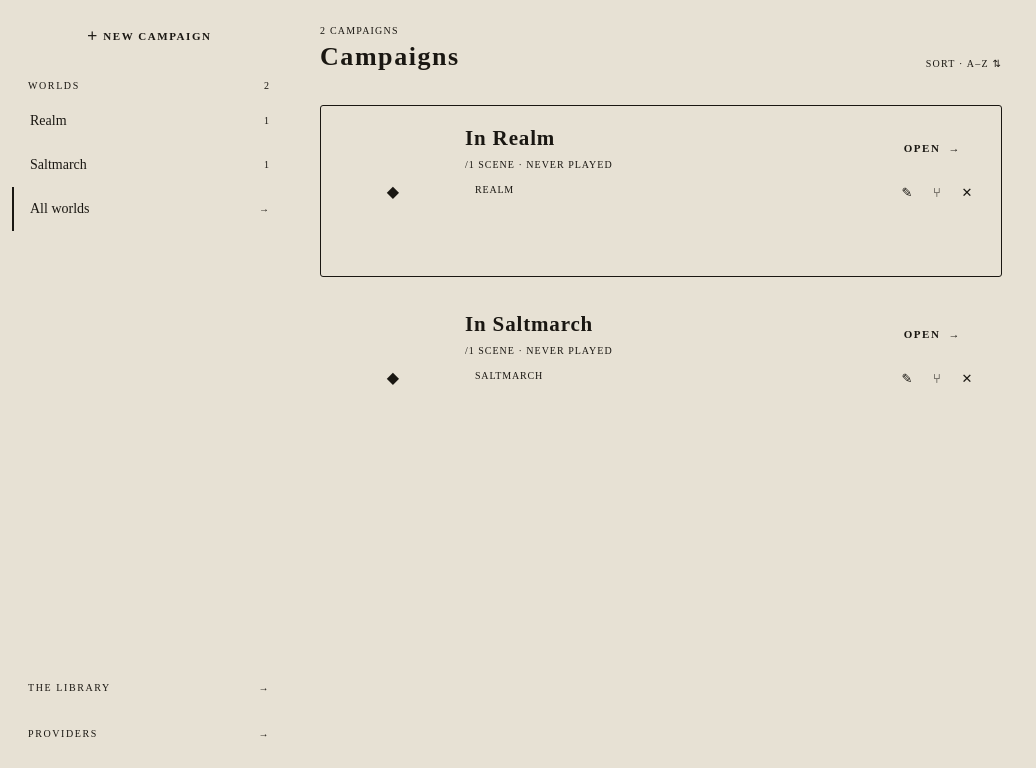
the column's worlds filter the shelf without leaving the page
expect the link "In Realm" is shown: met, box [465,126,555,150]
expect the 1st text "1" is shown: met, box [264,115,270,127]
Click the button "Saltmarch 1" at (58,164), box [12,143,286,187]
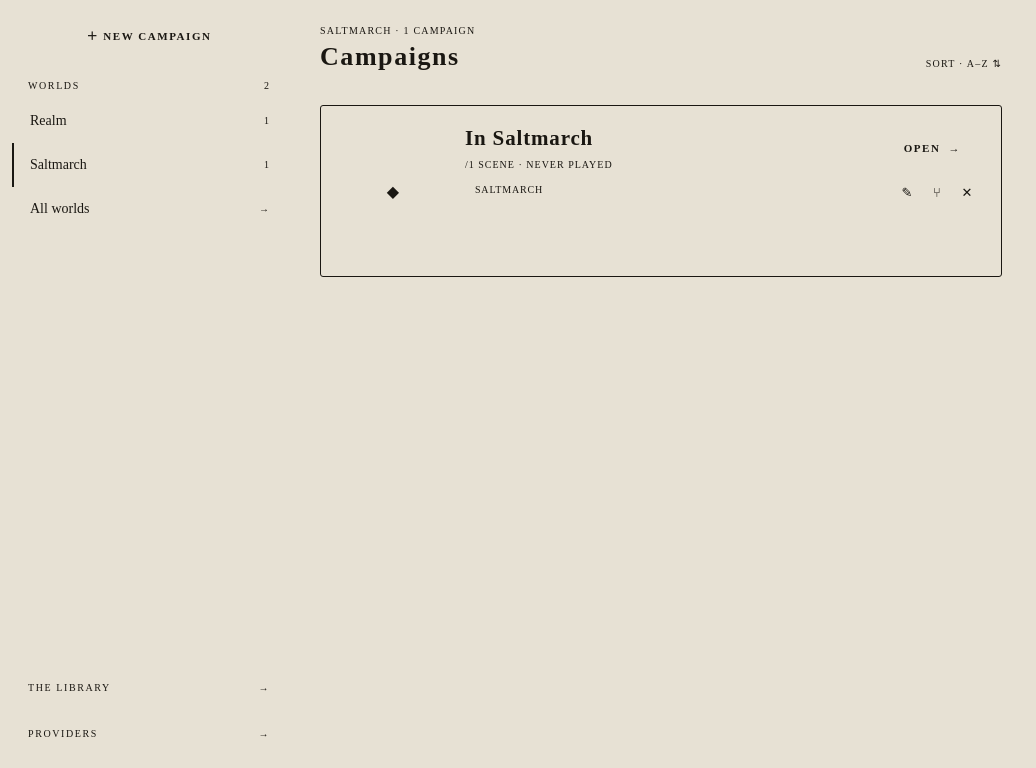
expect the link "In Saltmarch" is shown: met, box [465,126,593,150]
expect the link "In Realm" is gone: met
Click the button "All worlds →" at (60,208), box [12,187,286,231]
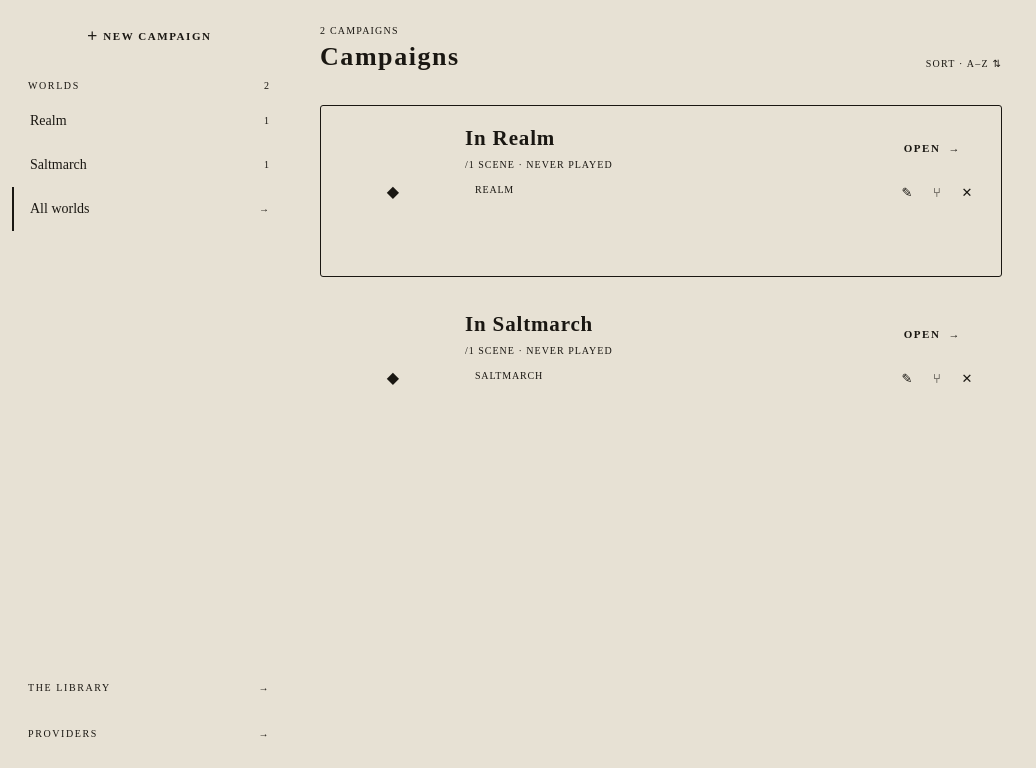
expect the link "In Realm" is shown: met, box [465,126,555,150]
